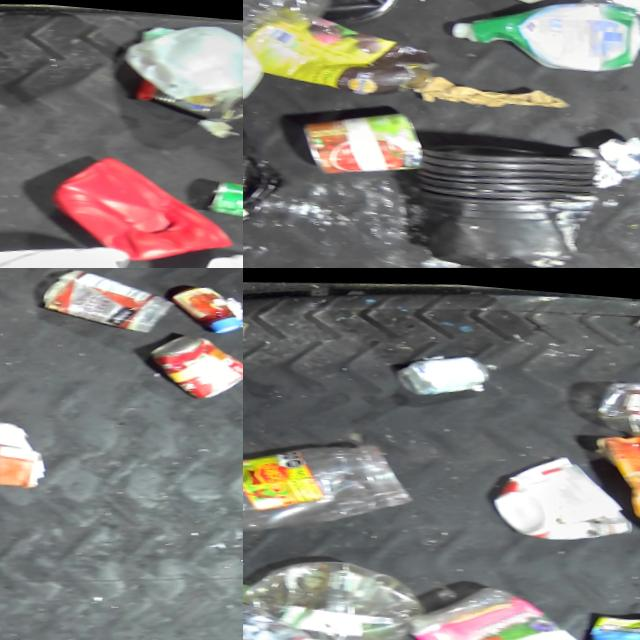can: (297, 99, 431, 181), (143, 318, 243, 397), (392, 342, 496, 399), (200, 164, 243, 218), (585, 598, 640, 640)
milk_jug: (118, 6, 243, 100), (243, 0, 269, 107)
non_white_jug: (44, 137, 235, 267)
plastic_bottle: (243, 542, 427, 640), (243, 579, 346, 640)
